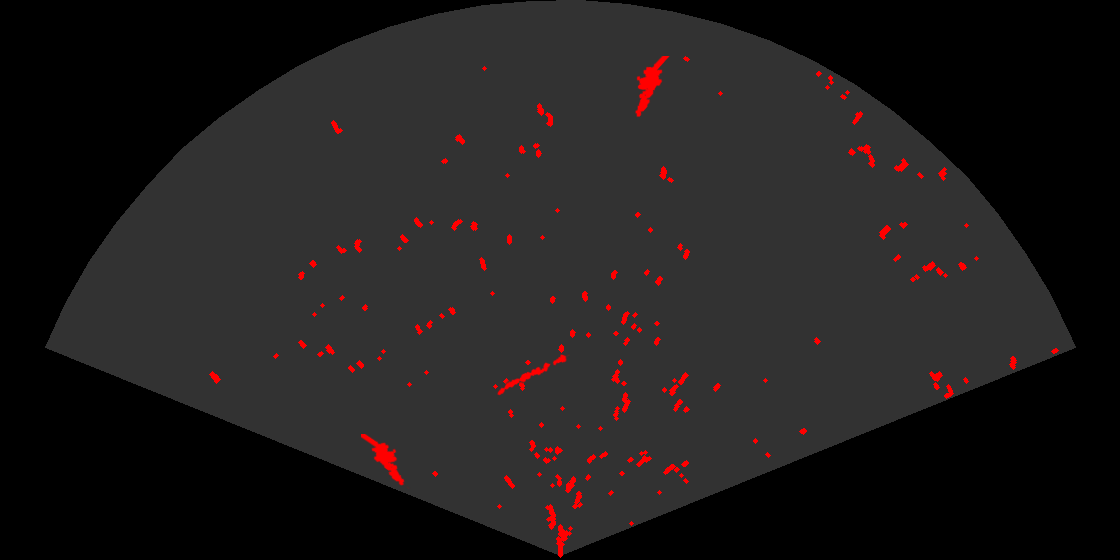chain: (496, 353, 570, 397)
frogman: (361, 434, 411, 489), (634, 56, 671, 119)
